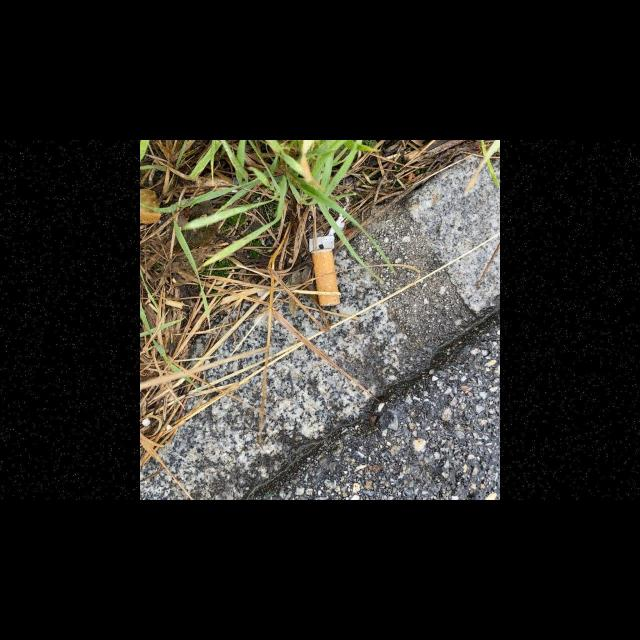cigarette: (308, 235, 341, 306)
